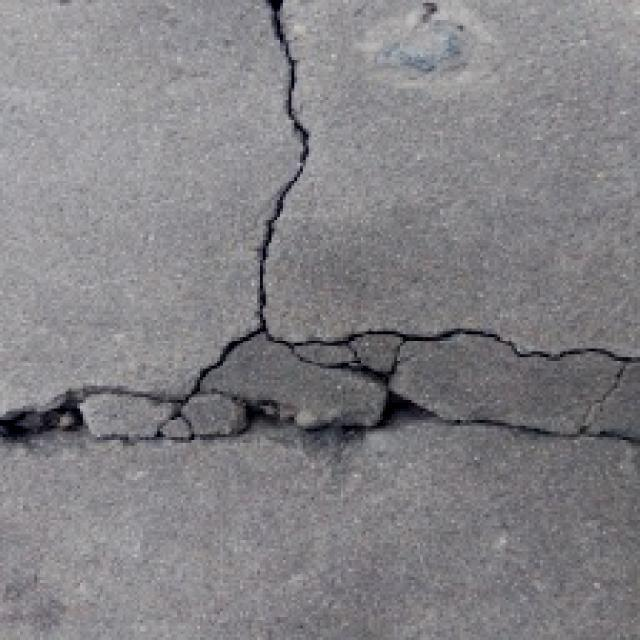crack: (0, 308, 640, 492), (208, 0, 376, 388)
